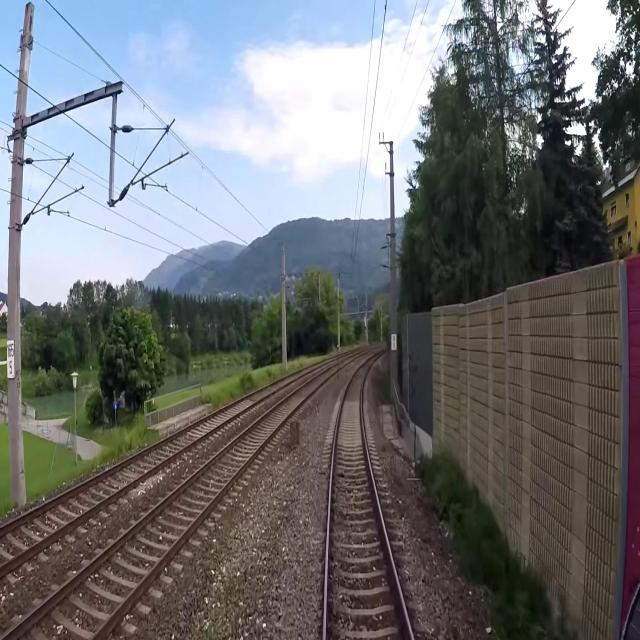rail-track: (6, 366, 337, 639), (0, 379, 288, 561), (327, 361, 409, 639)
